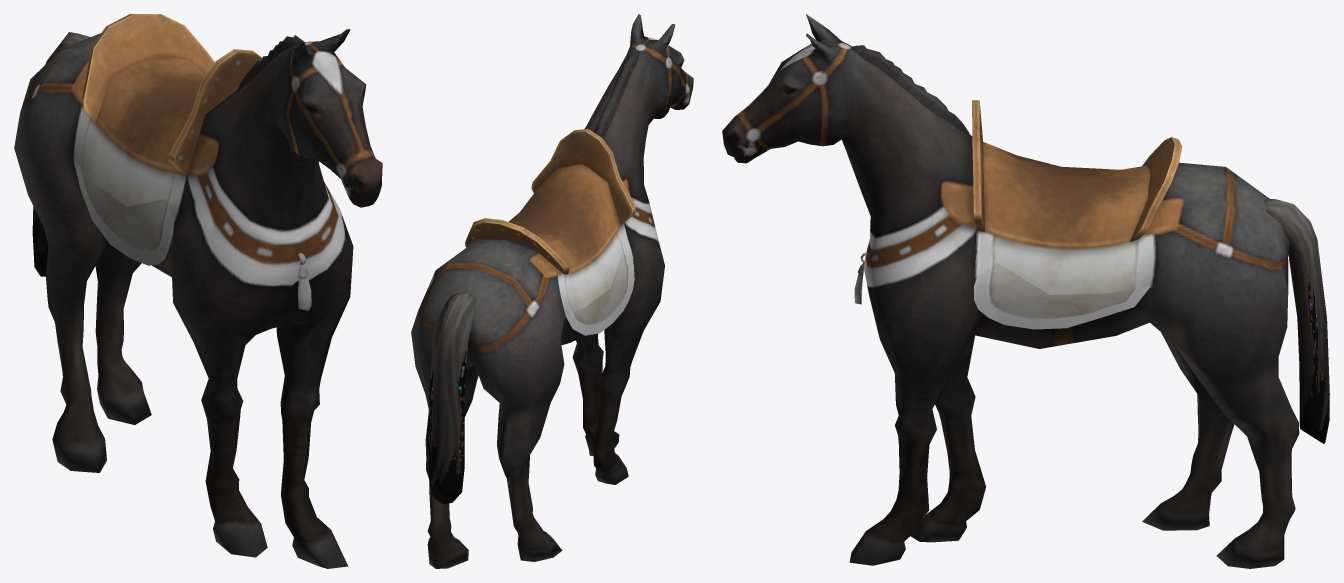
File: body-mediumarchers.glb
The picture shows the model from 3 angles, left to right: view 1: azimuth 30°, elevation 25°; view 2: azimuth 150°, elevation 25°; view 3: azimuth 270°, elevation 25°; orthographic projection. The views are drawn at different scales.
Size of the model in its own units: 0.8147 by 2.5 by 2.65.
Materials: 1 (1 with a texture image).
